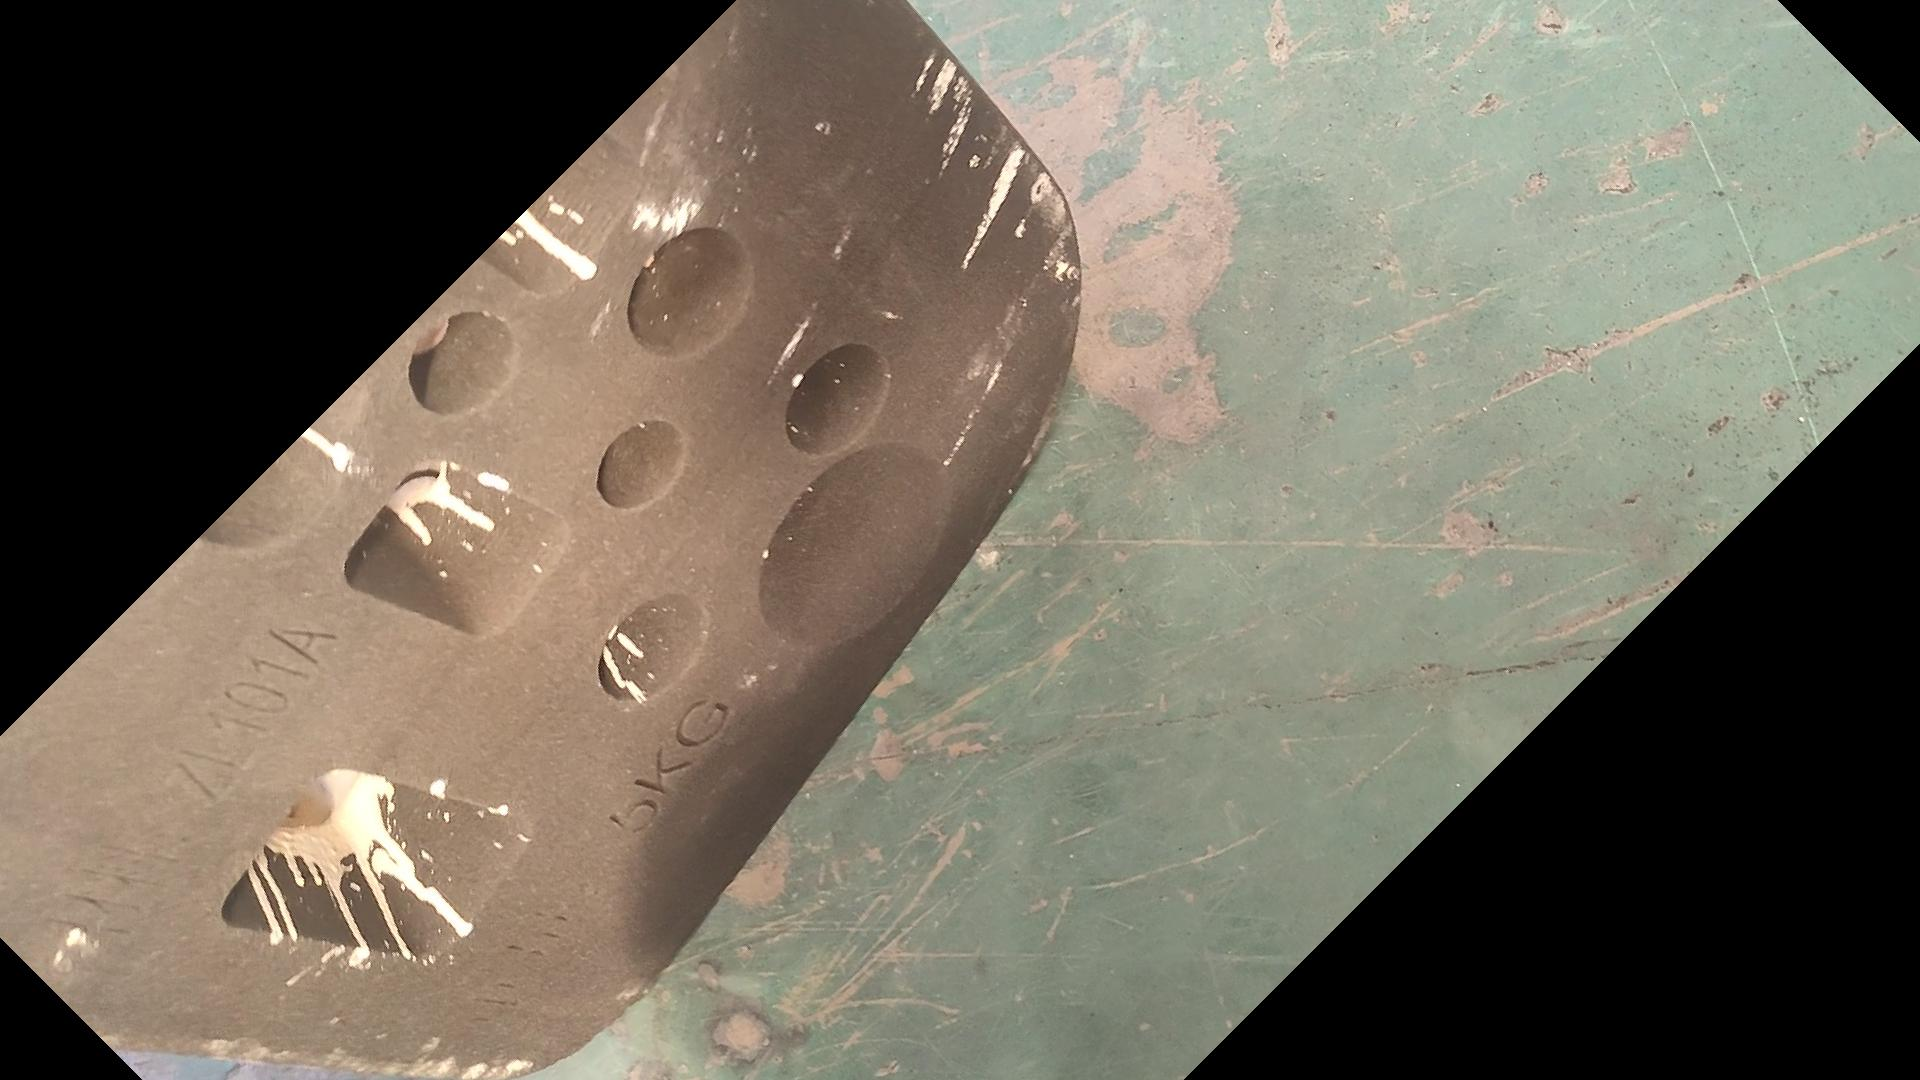pouring hole: (756, 443, 953, 642)
